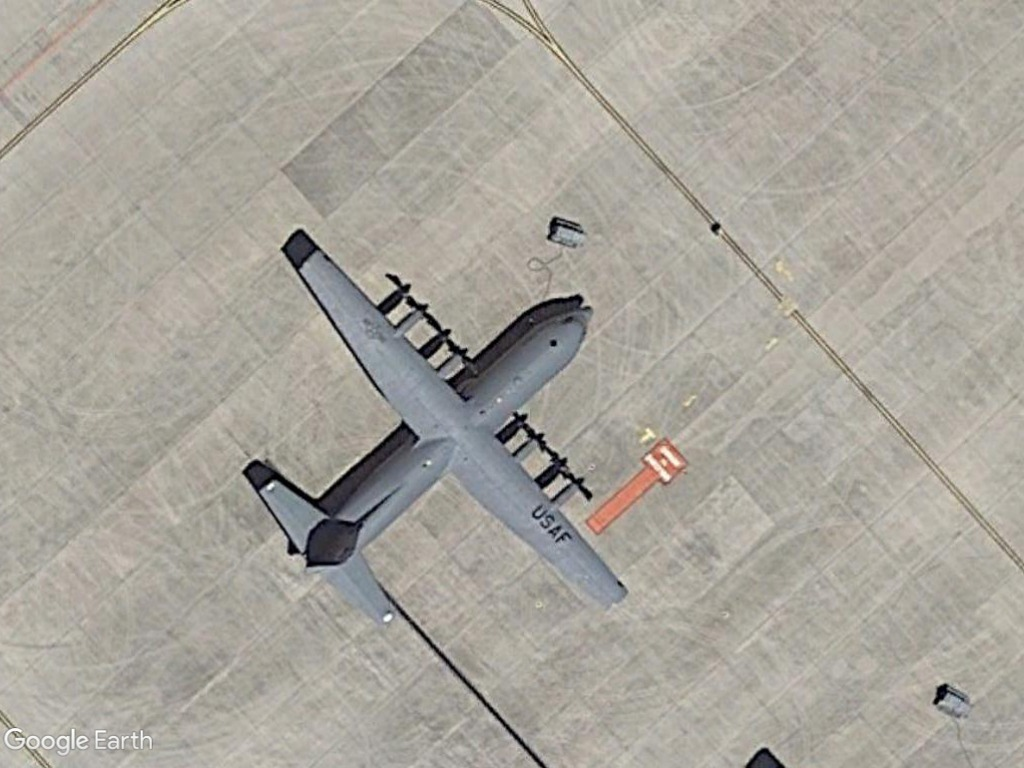propeller: (239, 231, 643, 640)
